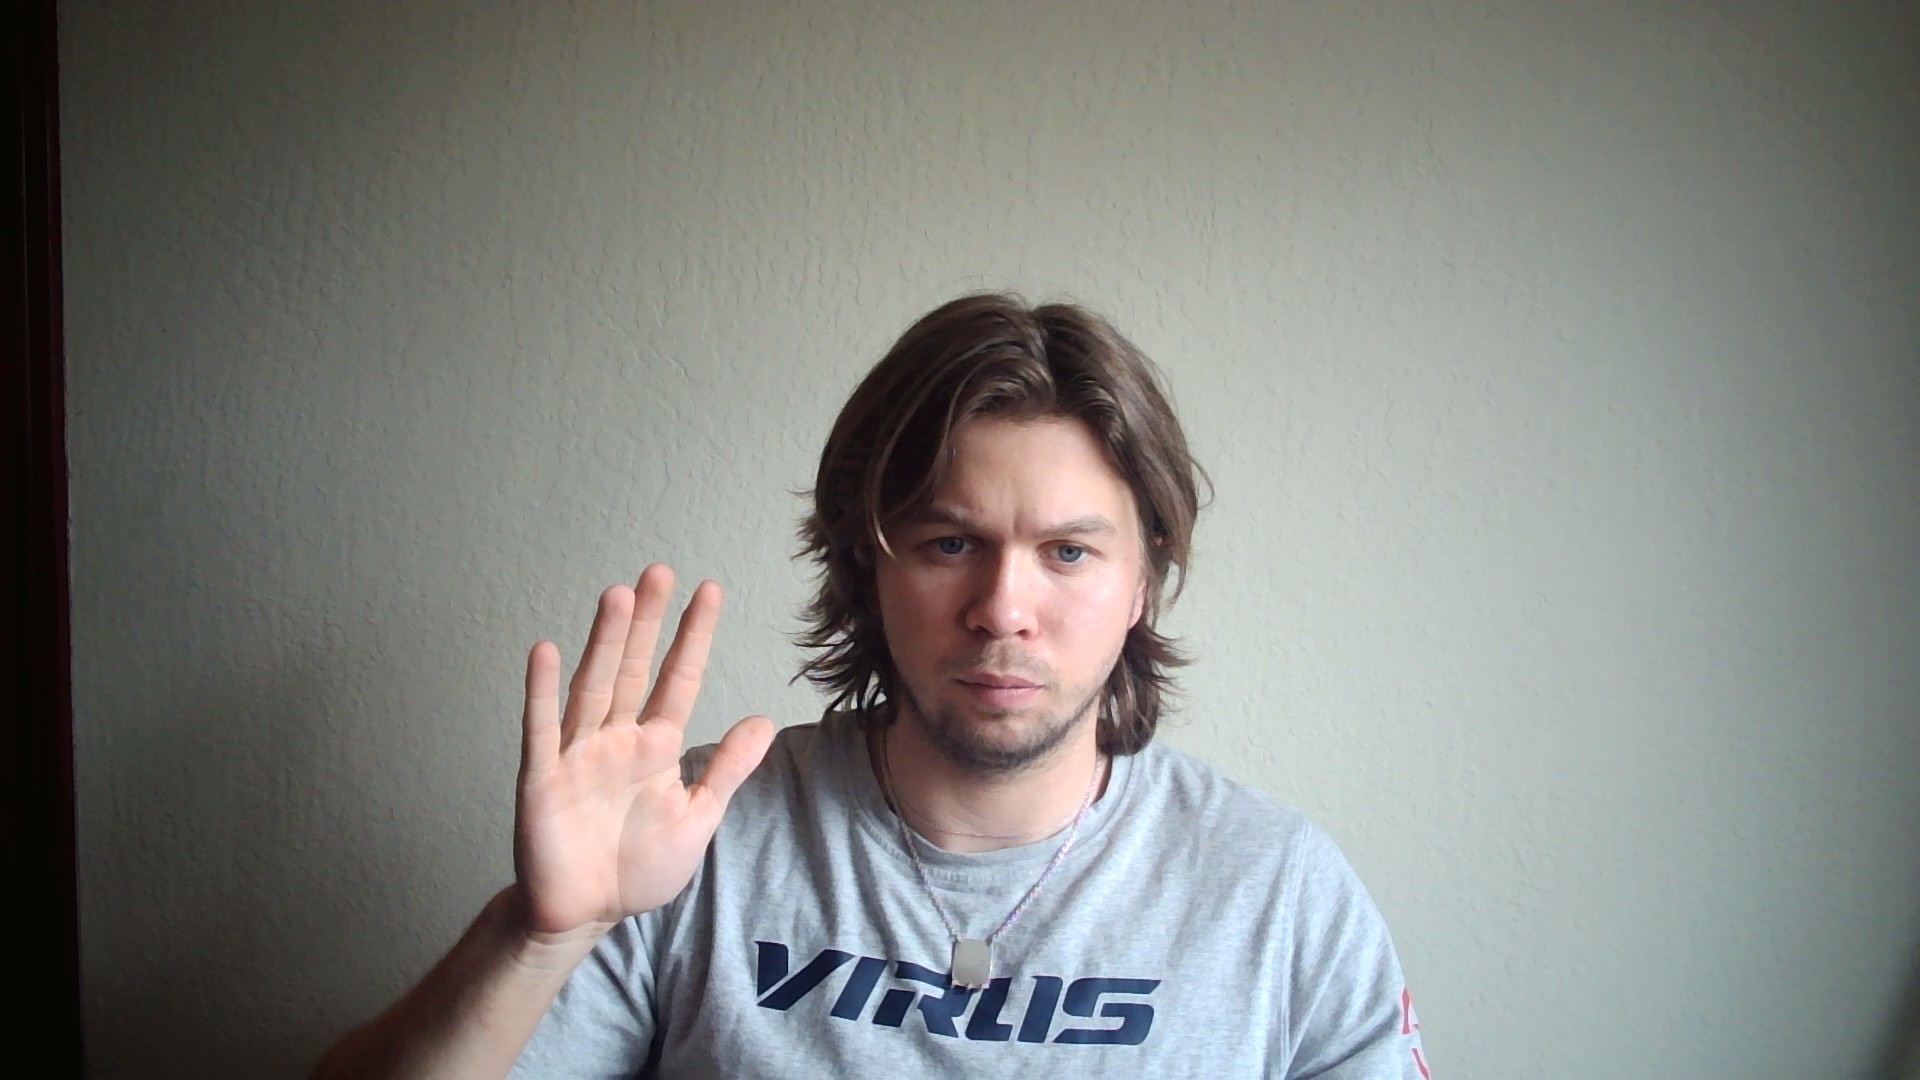hello: (513, 563, 774, 930)
